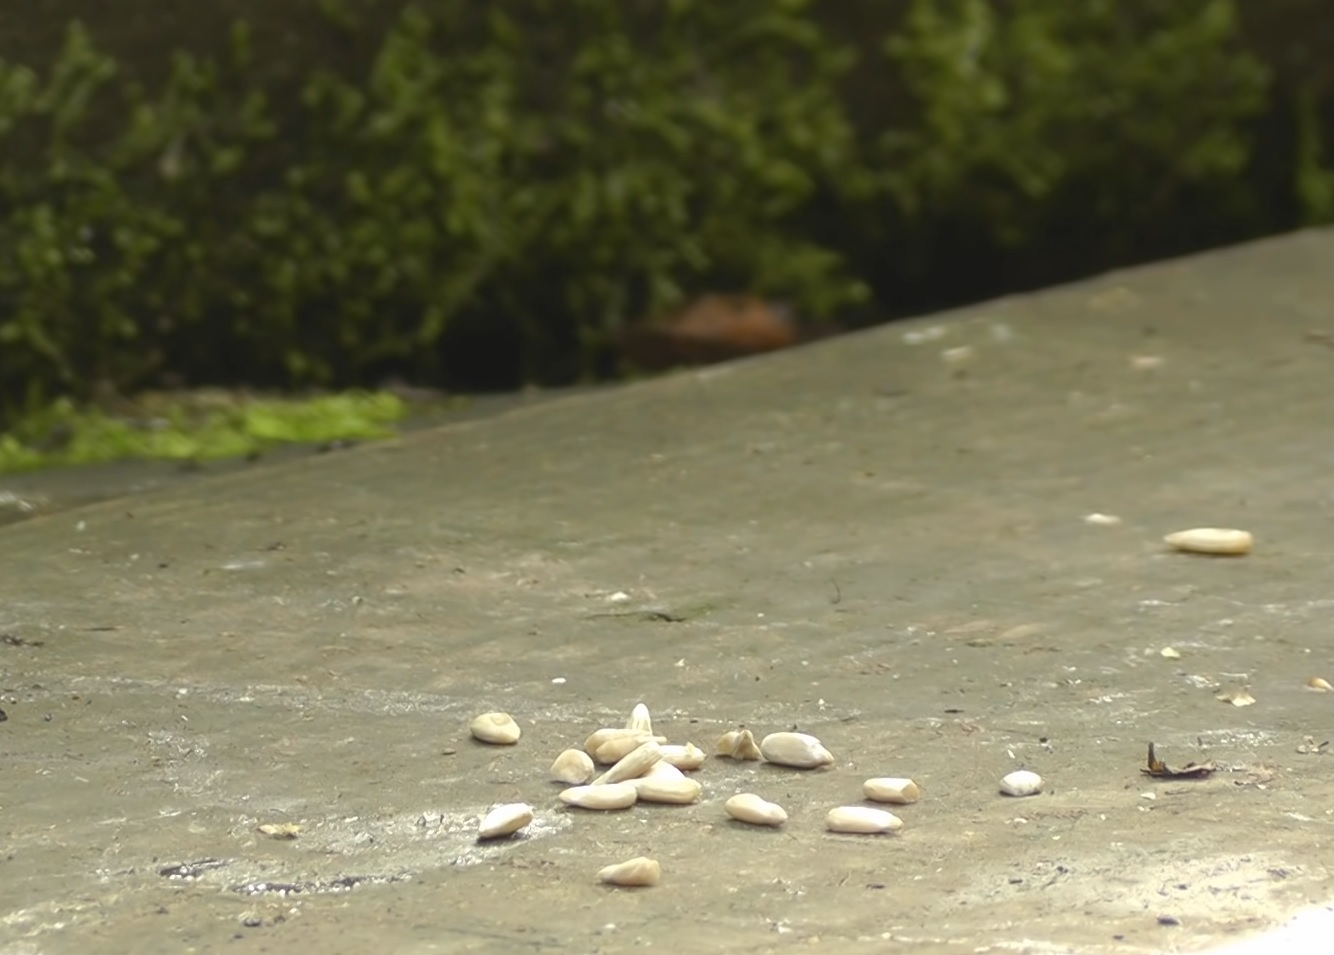seed: (442, 677, 1074, 898)
